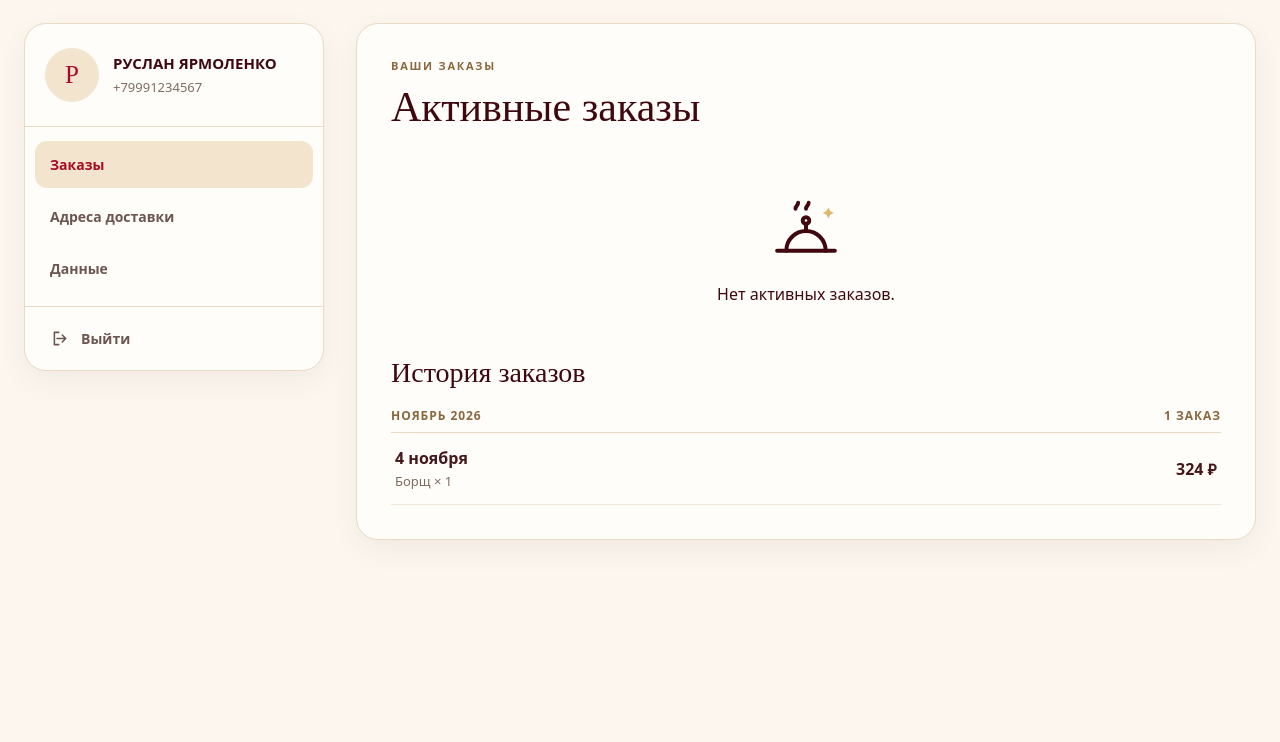
Test: завершённый заказ находится в истории и раскрывается
The width and height of the screenshot is (1280, 742).
Expected: the heading "История заказов" is shown, [391, 357, 586, 388]
Expected: the text "Ноябрь 2026" is shown, [391, 407, 482, 424]
Click the button "4 ноября Борщ × 1 324 ₽": (438, 458) [391, 433, 1221, 505]
(page scrolled)
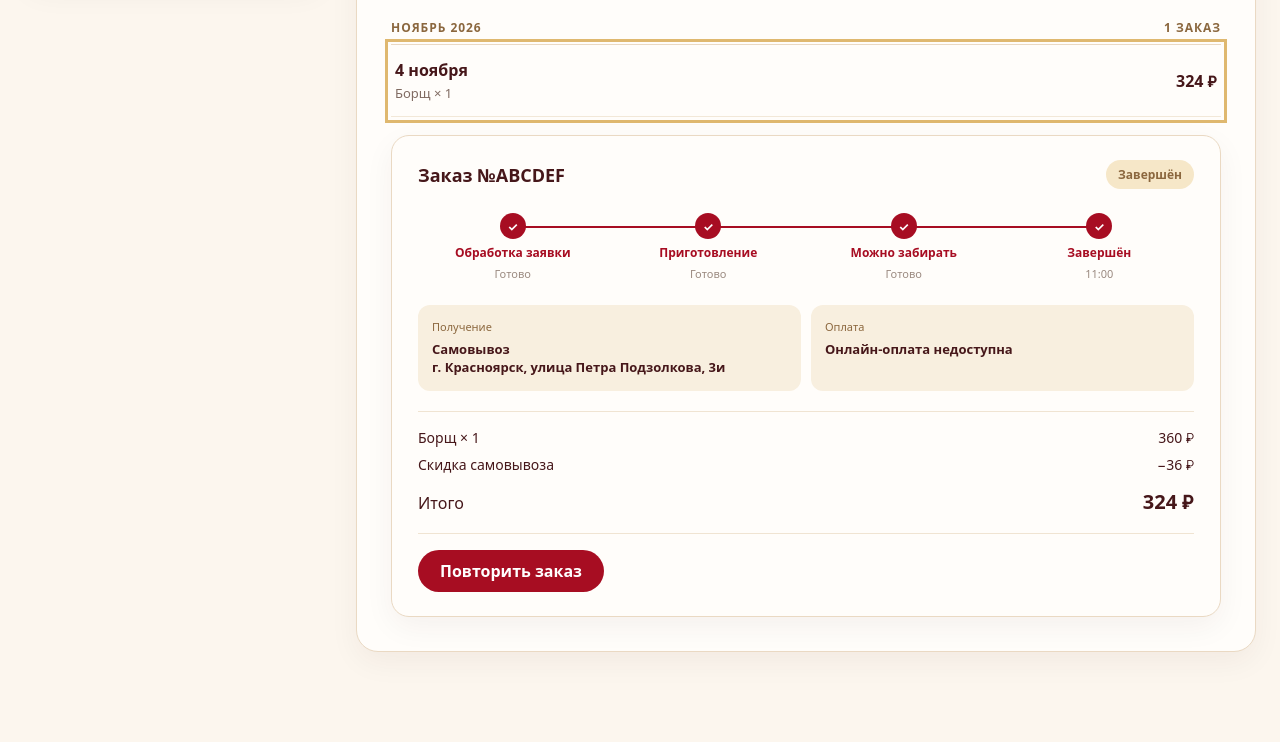
Now the button "Повторить заказ" is shown, box [418, 550, 604, 592]
Now the text "Завершён" is shown 2 times, box [1106, 160, 1194, 189]; [1067, 244, 1131, 261]
